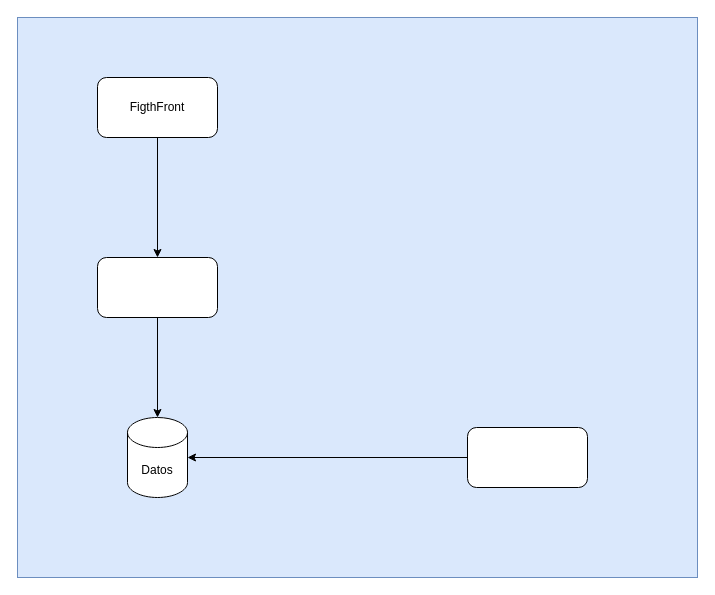
This 715x595 diagram has some shape labels left out. The box of each missing label's shape, as (x1, y1, x2, y2) in pixels:
DataScrapping: (466, 426, 588, 488)
FigthBack: (96, 256, 218, 318)
